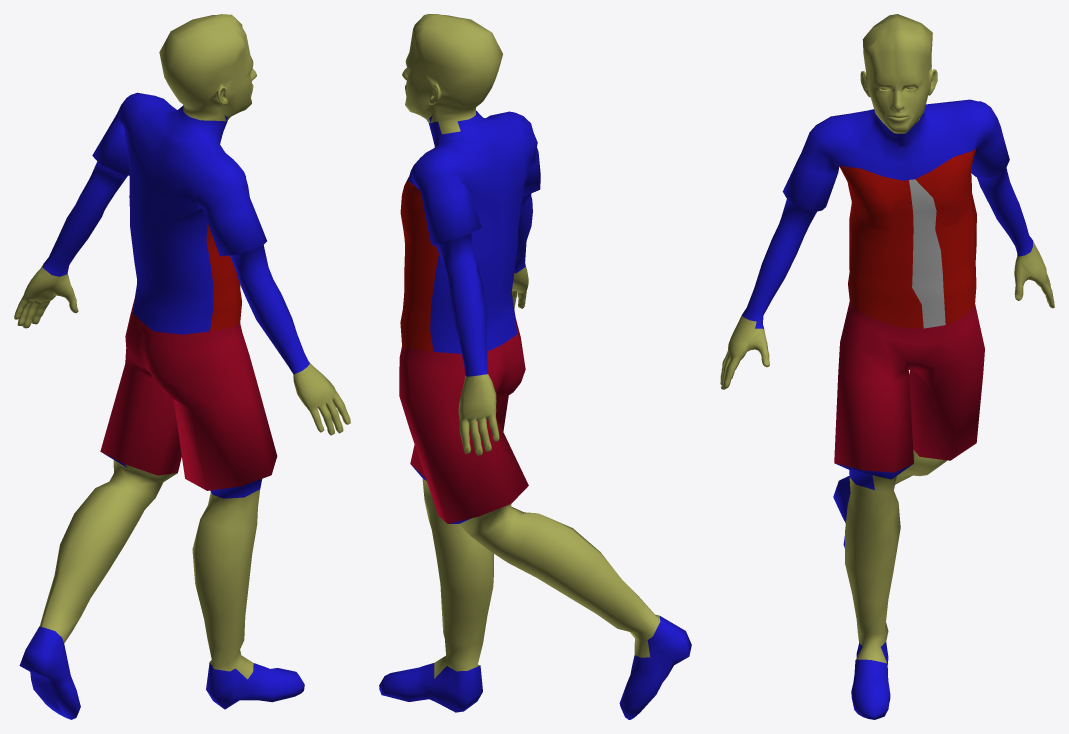
Rendered from player_000023.obj.
3 views of the same model, side by side, from view 1: azimuth 30°, elevation 25°; view 2: azimuth 150°, elevation 25°; view 3: azimuth 270°, elevation 25° (orthographic). The views are drawn at different scales.
Parts seen in each view (by area): view 1: soccerplayer_mesh; view 2: soccerplayer_mesh; view 3: soccerplayer_mesh.
Part boxes in pixels (x1,y1,x2,y2): soccerplayer_mesh: [14, 14, 350, 719]; soccerplayer_mesh: [379, 14, 691, 719]; soccerplayer_mesh: [720, 14, 1054, 719].
Size of the model in its own units: 2.41 by 5.36 by 2.47.
